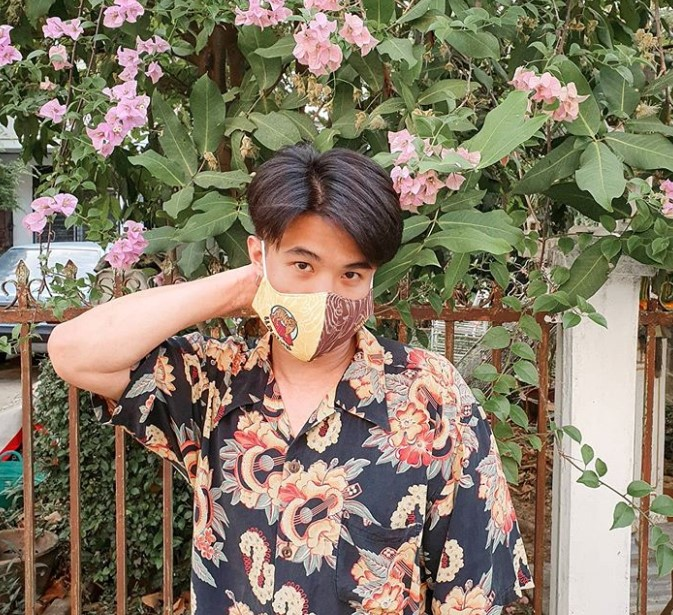face_with_mask: (244, 146, 403, 366)
